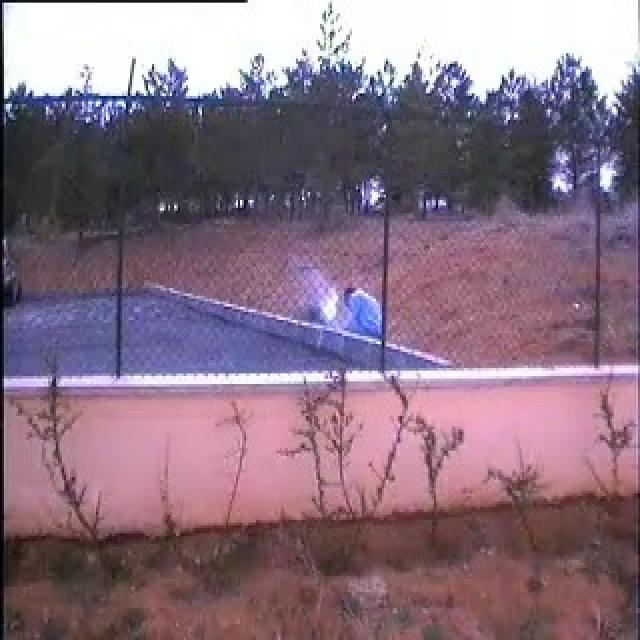smoke: (295, 270, 346, 323)
